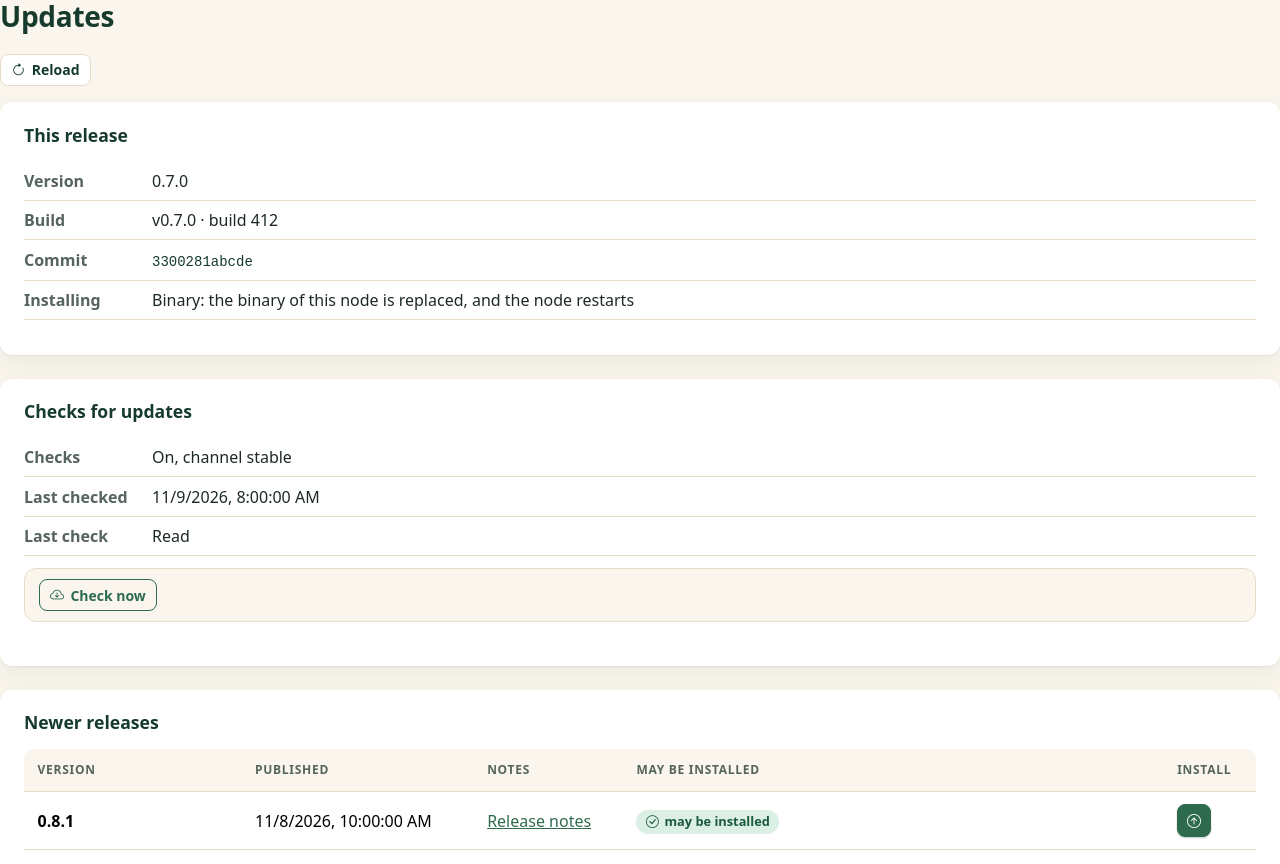
Updates: upgrade › asks for the password in a modal dialog that keeps the keyboard and closes with Escape
Click the button named "Upgrade to 0.8.1": (1194, 821) [1177,804,1211,837]
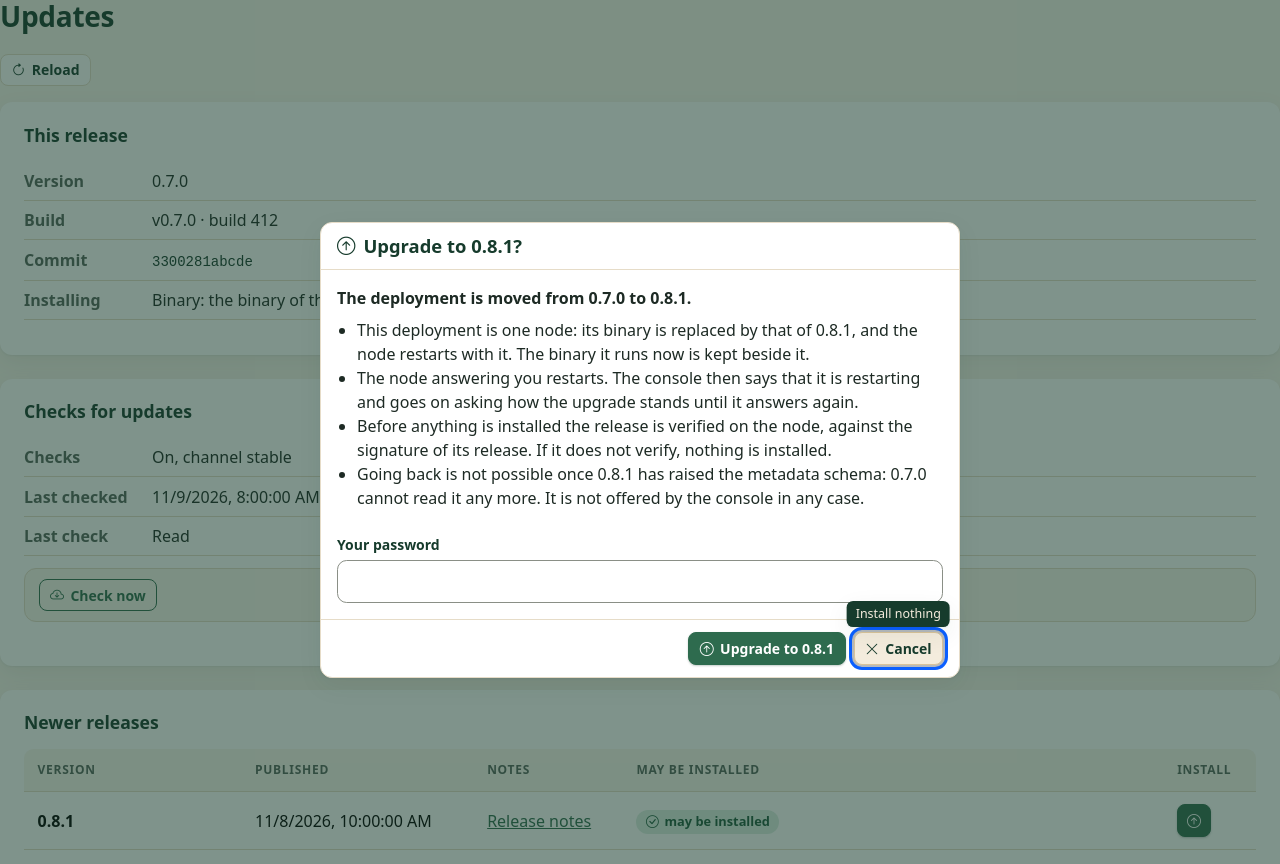
Expected: the dialog "Upgrade to 0.8.1?" shows "from 0.7.0 to 0.8.1", [320,222,960,678]
Expected: the dialog "Upgrade to 0.8.1?" shows "The node answering you restarts", [357,367,920,413]
Expected: the dialog "Upgrade to 0.8.1?" shows "Going back is not possible once 0.8.1 has raised the metadata schema", [320,222,960,678]
Press Tab in the button "Cancel", box [854,632,943,665]
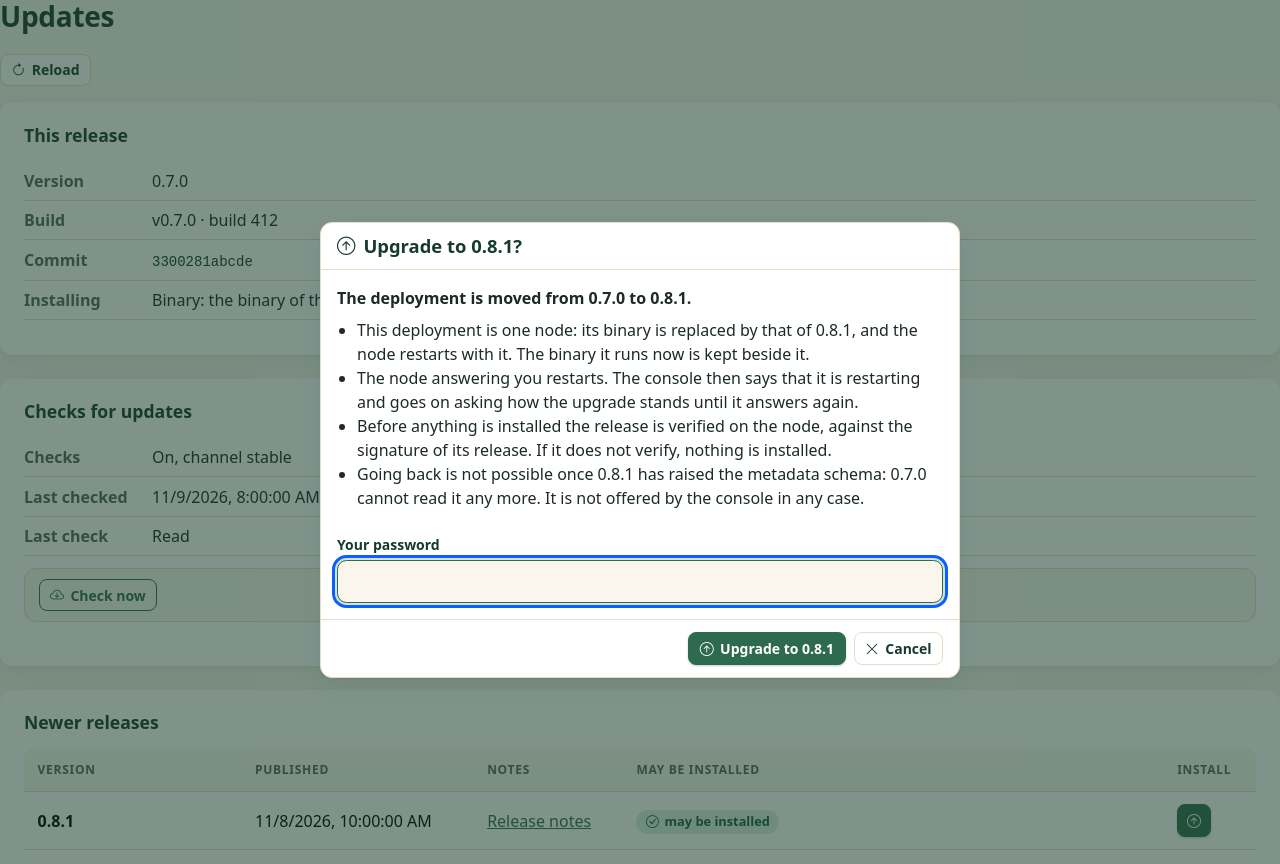
Press Escape in the password field labelled "Your password", box [337,560,943,603]
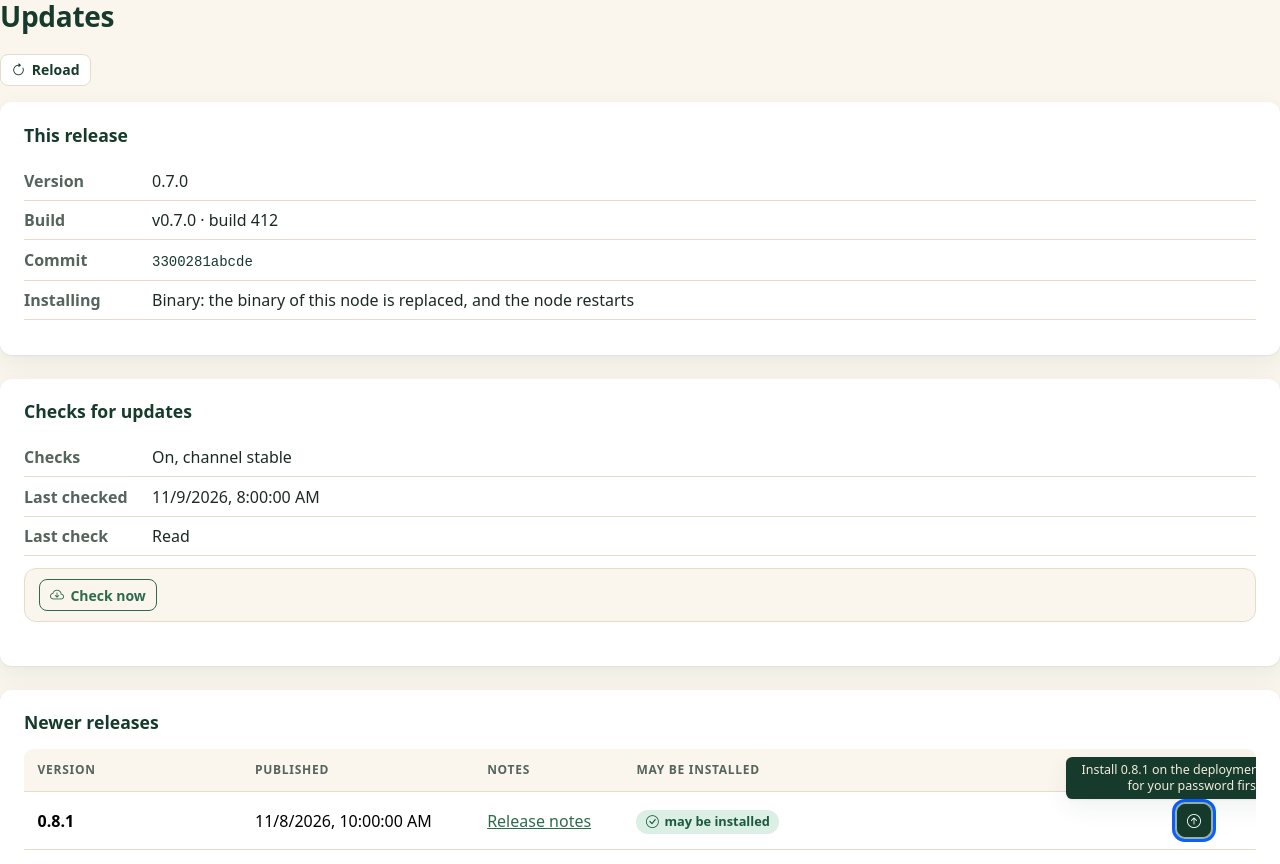
Expected: the dialog is gone
